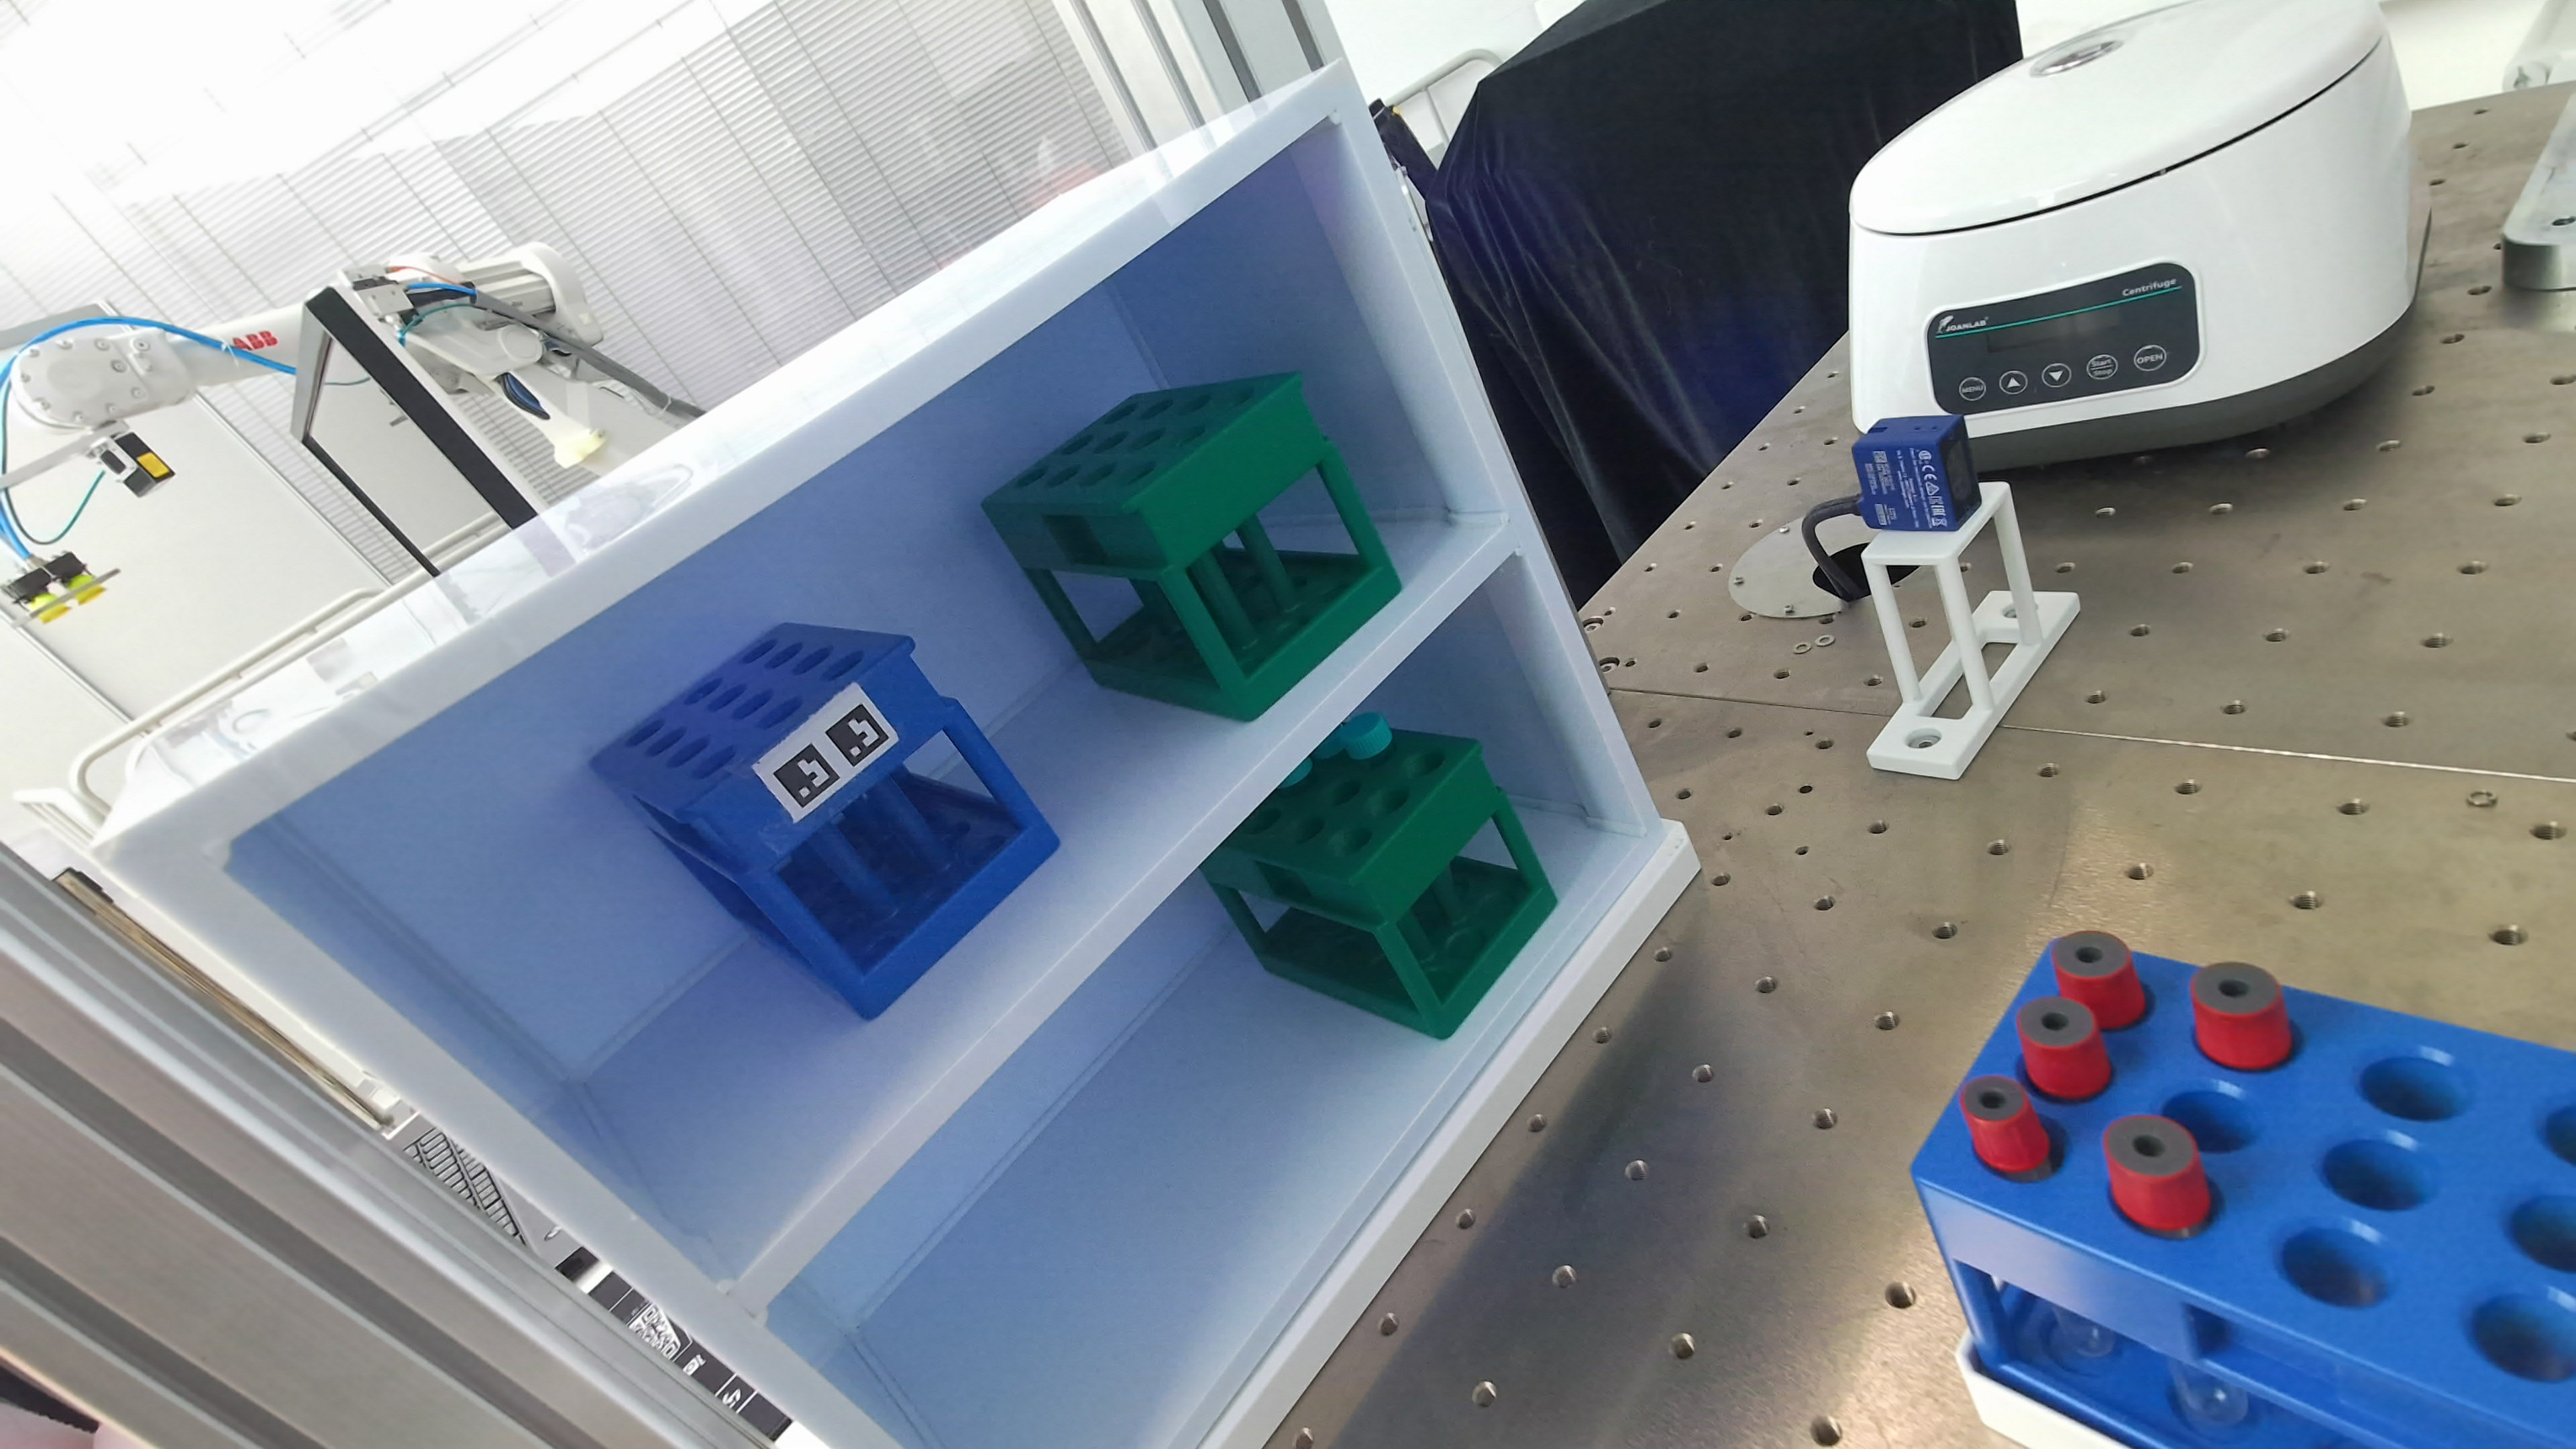10ML_centrifuge_tube: (1315, 711, 1392, 761), (1336, 711, 1392, 761), (1279, 759, 1313, 789)
10ML_sorting_tube_rack: (1913, 950, 2576, 1447), (591, 623, 1058, 1019)
5ML_sorting_tube_rack: (982, 373, 1399, 720), (1201, 713, 1557, 1039)
blood_tube: (2102, 1115, 2212, 1235), (2190, 962, 2291, 1069), (2015, 996, 2112, 1099), (2051, 931, 2144, 1030), (1960, 1076, 2049, 1175)
centrifuge_close: (1849, 0, 2431, 469)
sorting_tube_rack_base: (1955, 1332, 2127, 1449)
tube_rack_storage_cabinet: (92, 69, 1691, 1444)
